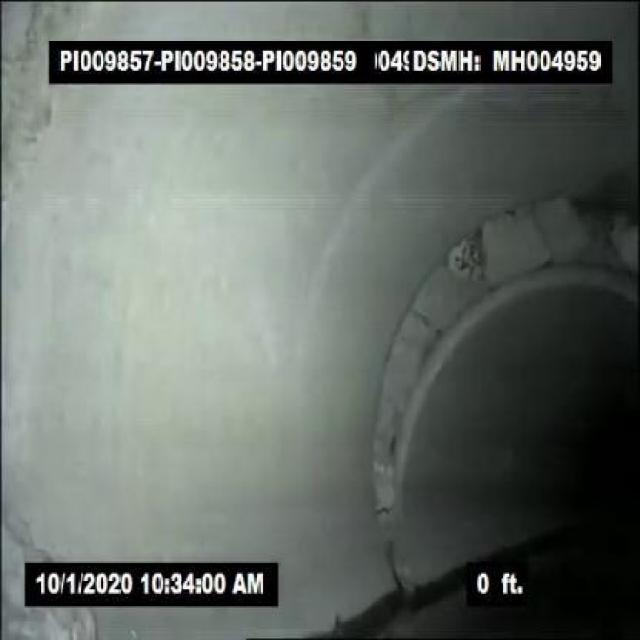Joint offset: (375, 180, 640, 534)
